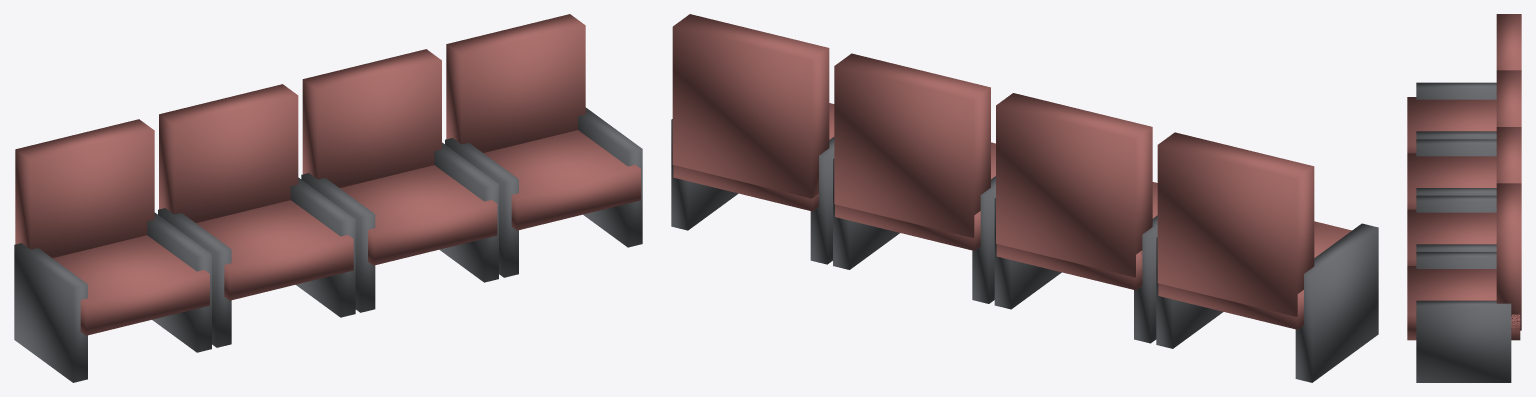
The model's file is theater_seat_row__squat.glb.
3 renders of one model, left to right at view 1: azimuth 30°, elevation 25°; view 2: azimuth 150°, elevation 25°; view 3: azimuth 270°, elevation 25°, orthographic. The views are drawn at different scales.
Visible parts, largest first — view 1: world; view 2: world; view 3: world.
Boxes of the visible parts, x1,y1,x2,y2 form: world: (14, 14, 642, 382); world: (671, 14, 1378, 382); world: (1407, 14, 1521, 382).
Size of the model in its own units: 2.53 by 0.7812 by 0.5454.
